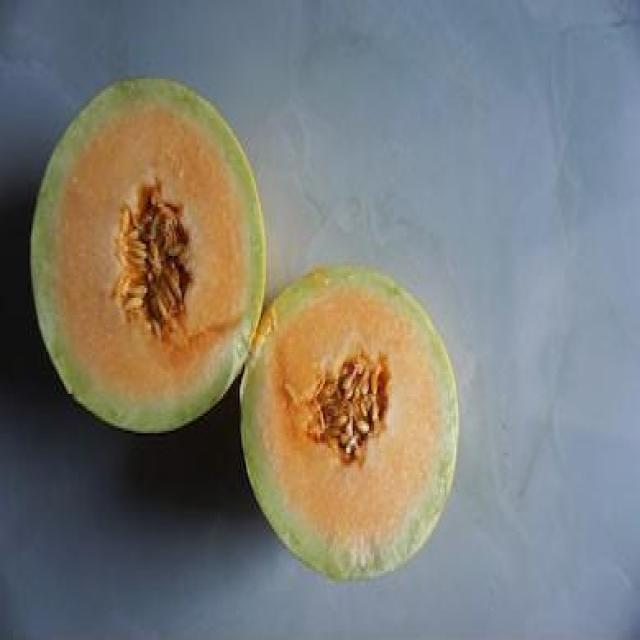cantaloupe: (32, 81, 267, 434), (242, 262, 459, 584)
